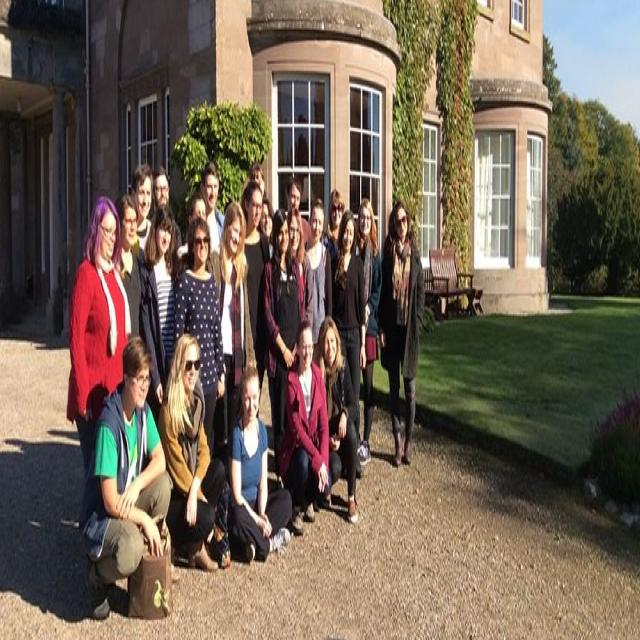body: (0, 412, 133, 628), (78, 336, 172, 620), (66, 193, 132, 542), (155, 330, 226, 575), (226, 360, 294, 564), (261, 203, 308, 491), (378, 201, 426, 472), (174, 214, 226, 446), (276, 316, 330, 539), (211, 198, 252, 480), (312, 316, 359, 526), (332, 208, 368, 480), (139, 205, 182, 428), (354, 196, 383, 466), (239, 178, 271, 421), (248, 189, 270, 420), (304, 196, 334, 357), (116, 192, 142, 340), (176, 189, 216, 283), (286, 205, 315, 330), (199, 158, 227, 256), (150, 162, 180, 249), (321, 186, 346, 278), (131, 162, 154, 250), (285, 175, 310, 243), (248, 161, 266, 202)
